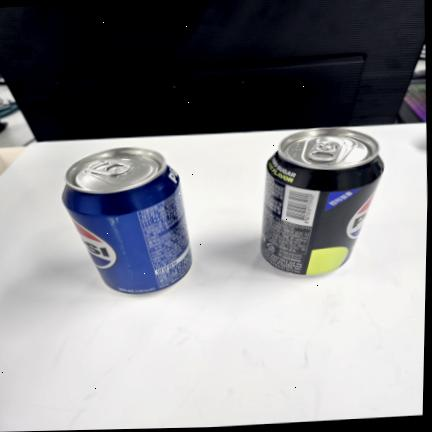can_pepsi: (63, 148, 192, 294)
can_pepsi_zero: (261, 128, 383, 275)
